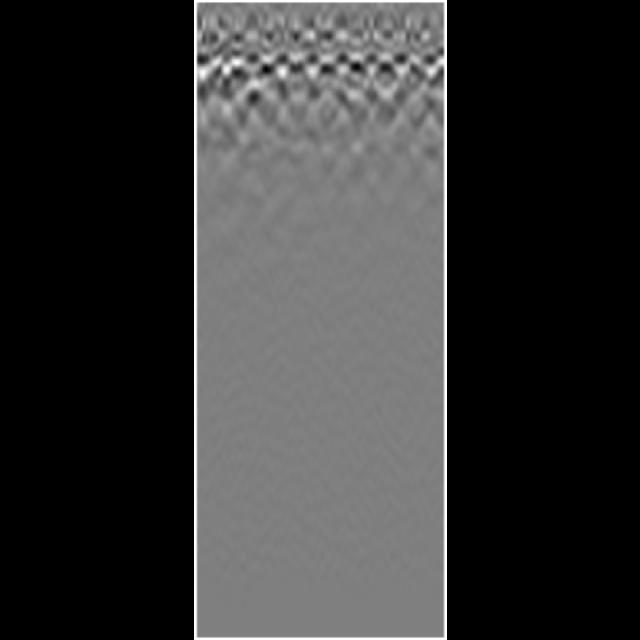hyperbola: (392, 48, 438, 88), (332, 51, 378, 89), (364, 50, 408, 88), (306, 52, 352, 88), (274, 52, 320, 88), (197, 50, 236, 90), (246, 53, 292, 83), (218, 56, 258, 86)
